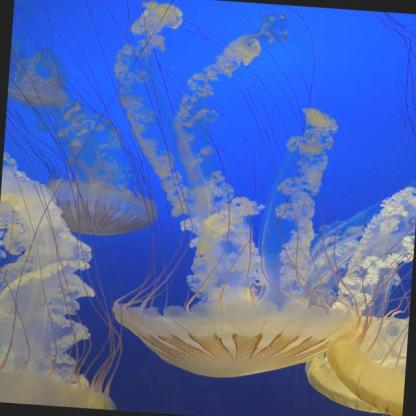jellyfish: (108, 292, 359, 388), (322, 312, 409, 415), (36, 178, 158, 239), (302, 351, 406, 415), (0, 366, 116, 410), (7, 80, 65, 108)
